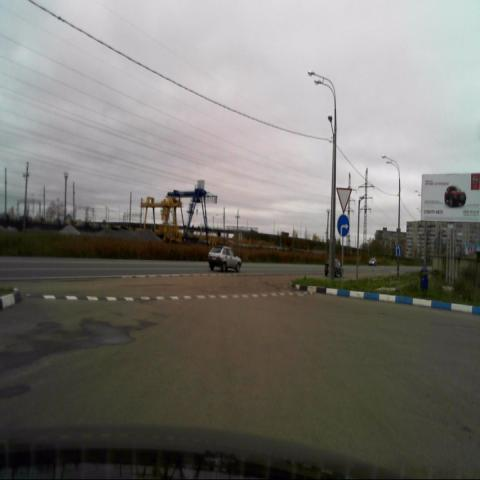4_1_2: (336, 214, 350, 237)
